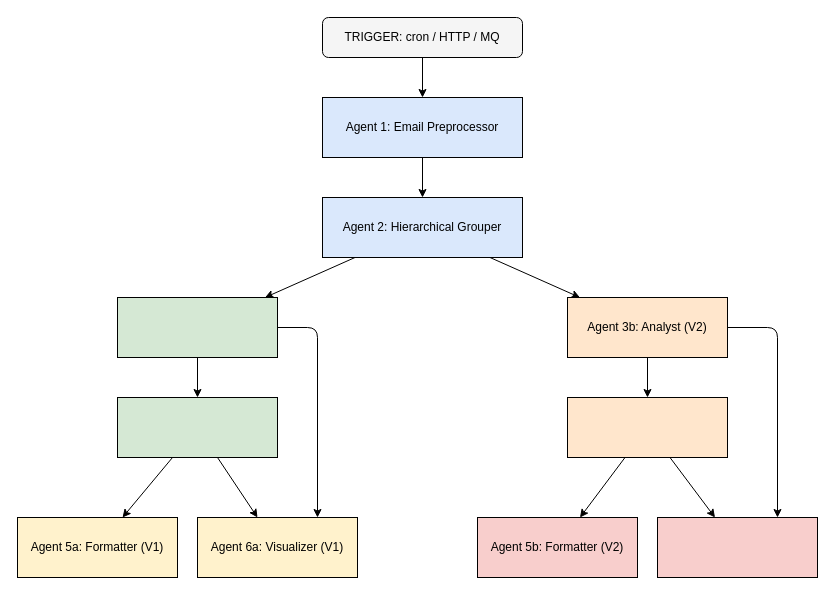
This 835x595 diagram has some shape labels left out. The centre of each missing label's shape, as x and y in pixels:
Agent 3a: Analyst (V1): (x=197, y=327)
Agent 4a: Reporter (V1): (x=197, y=427)
Agent 4b: Reporter (V2): (x=647, y=427)
Agent 6b: Visualizer (V2): (x=737, y=547)
